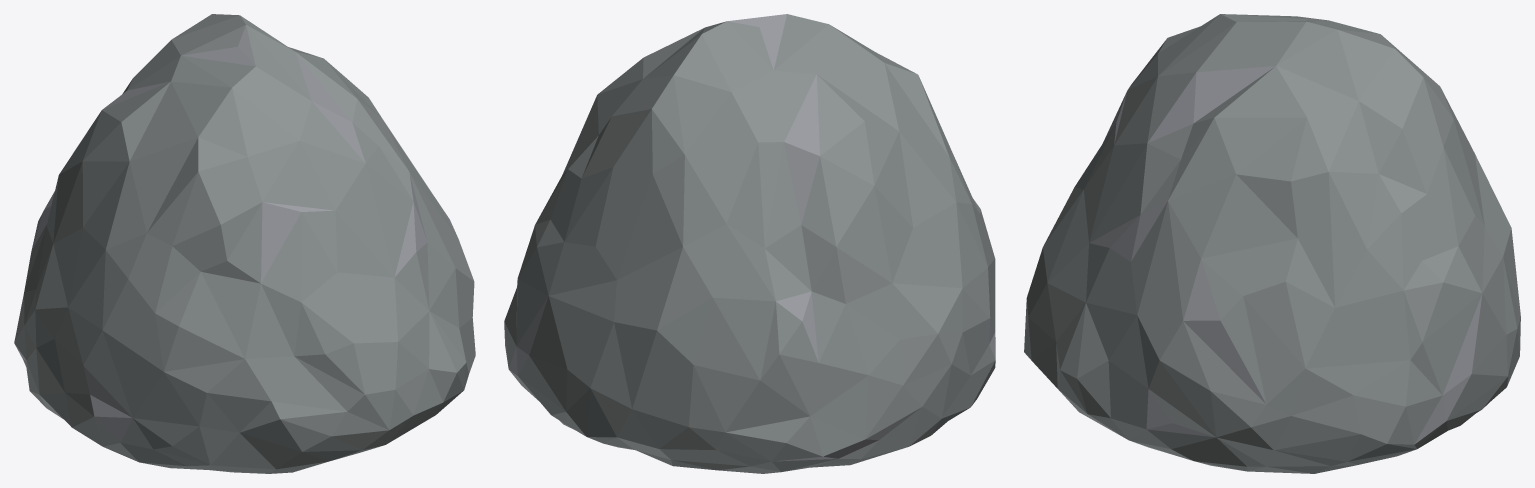
Rendered from mesh_rock_small_05.fbx.
3 renders of one model, left to right at view 1: azimuth 30°, elevation 25°; view 2: azimuth 150°, elevation 25°; view 3: azimuth 270°, elevation 25°, orthographic. The views are drawn at different scales.
Parts seen in each view (by area): view 1: mesh_rock_small_05_LOD0; view 2: mesh_rock_small_05_LOD0; view 3: mesh_rock_small_05_LOD0.
Part boxes in pixels (x1,y1,x2,y2): mesh_rock_small_05_LOD0: (14,14,475,473); mesh_rock_small_05_LOD0: (504,14,995,473); mesh_rock_small_05_LOD0: (1024,14,1520,473).
Size of what is drawn, in the model's own units: 0.7761 by 0.7042 by 0.7995.
